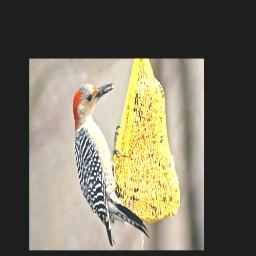Woodpecker: (61, 76, 153, 244)
